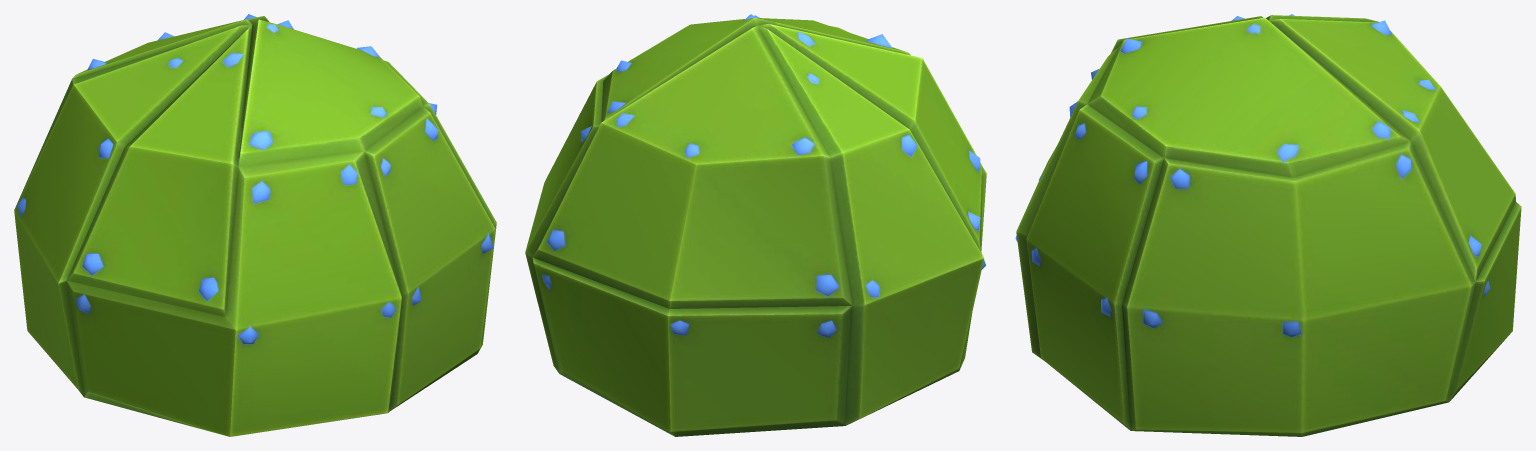
The model's file is obj_bush01_base.gltf.
3 renders of one model, left to right at view 1: azimuth 30°, elevation 25°; view 2: azimuth 150°, elevation 25°; view 3: azimuth 270°, elevation 25°, orthographic. The views are drawn at different scales.
Visible parts, largest first — view 1: obj_bush01_base; view 2: obj_bush01_base; view 3: obj_bush01_base.
Part boxes in pixels (x1,y1,x2,y2): obj_bush01_base: [14, 14, 496, 436]; obj_bush01_base: [525, 14, 986, 436]; obj_bush01_base: [1015, 14, 1521, 436].
Size of what is drawn, in the model's own units: 0.959 by 0.738 by 0.9901.
Materials: 1 (1 with a texture image).
